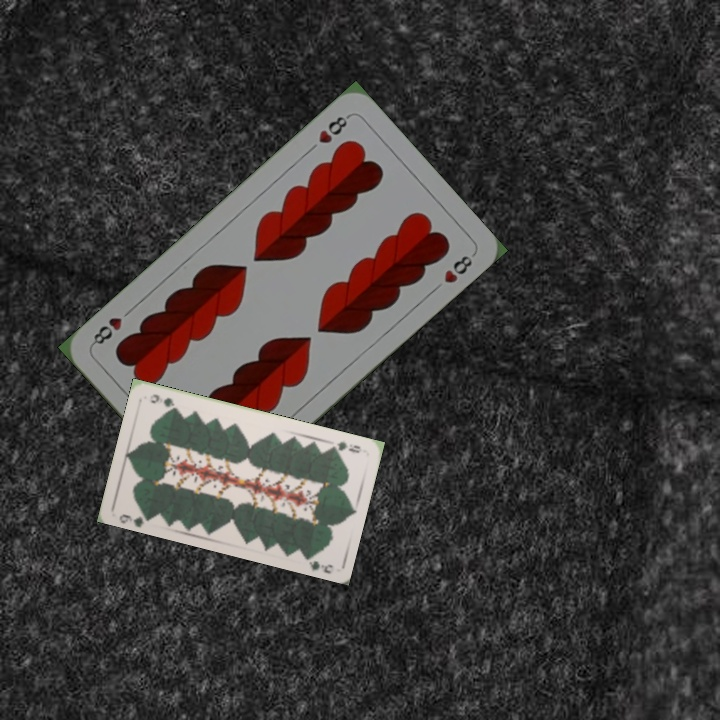G9: (115, 508, 154, 528), (325, 437, 365, 455)
H8: (314, 110, 352, 146)
